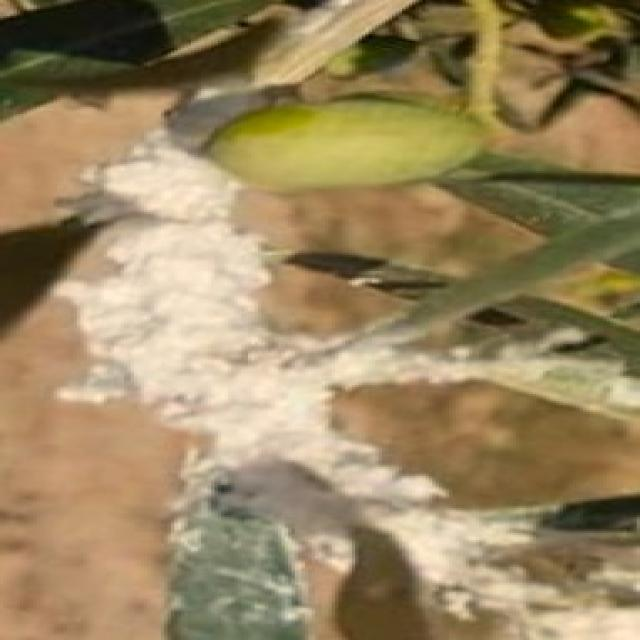Psyllid: (54, 130, 637, 638)
